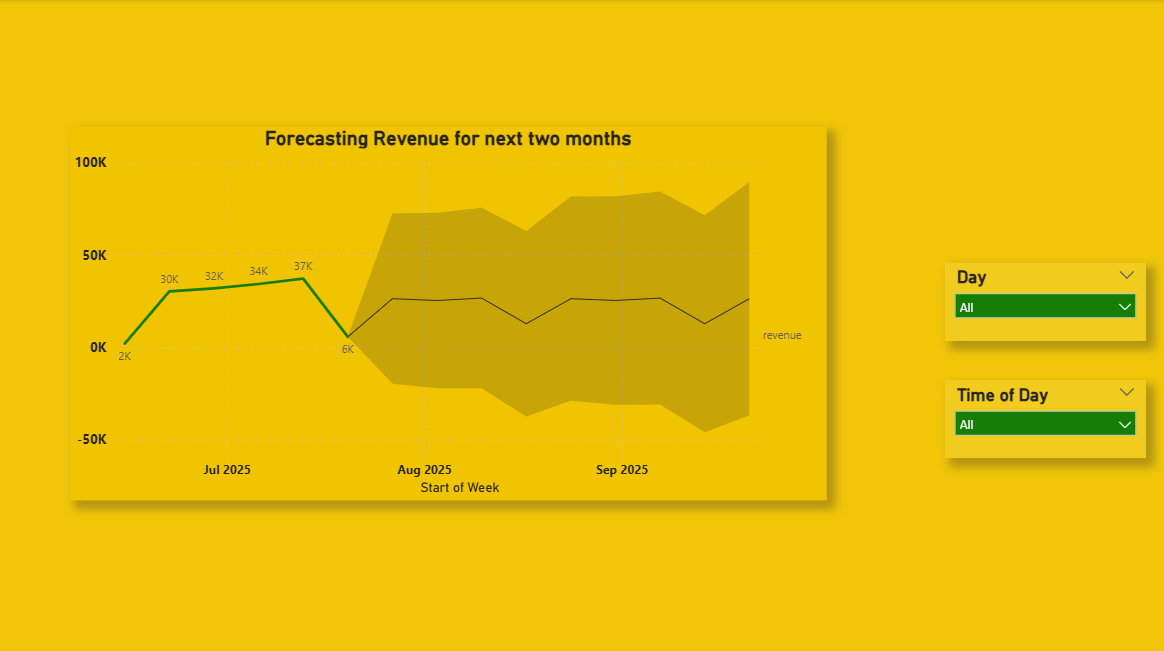

Layout of this report page (visuals, bound fields, positions):
{"tool":"powerbi","page":{"name":"forecasting","canvas":[1280,720],"ordinal":6},"visuals":[{"type":"lineChart","title":"Forecasting Revenue for next two months","fields":{"Category":["blinkit_metro_orders1.Start of Week"],"Y":["measure.revenue"]},"box":[78,140,830,410],"z":0},{"type":"slicer","fields":{"Values":["blinkit_metro_orders1.Day Name"]},"box":[1038.7,289.6,219.9,85.8],"z":1000},{"type":"slicer","fields":{"Values":["blinkit_metro_orders1.Time_of_Day"]},"box":[1038.7,418.3,219.9,85.8],"z":2000}]}

Visuals, with their boxes in screenshot pixels (x1, y1, x2, y2), scaled from the page's 1280x720 canvas onto the 1164x651 screenshot:
"Forecasting Revenue for next two months" lineChart: (x1=71, y1=127, x2=826, y2=497)
slicer - blinkit_metro_orders1.Day Name: (x1=945, y1=262, x2=1145, y2=339)
slicer - blinkit_metro_orders1.Time_of_Day: (x1=945, y1=378, x2=1145, y2=456)
